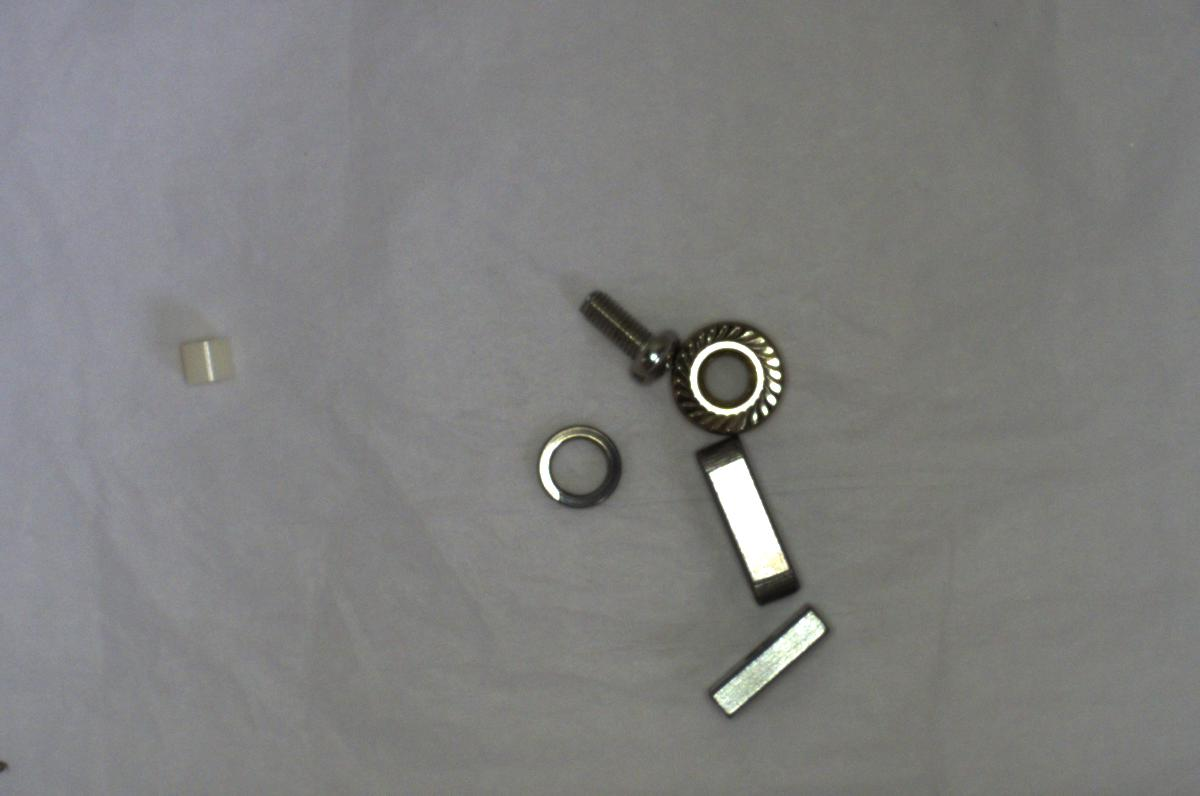Flange nut: (667, 305, 790, 443)
Keybar: (692, 434, 805, 613)
Plastic cushion pillar: (175, 330, 233, 389)
Rectangular nut: (702, 599, 833, 719)
Round head screw: (577, 280, 678, 382)
Spring washer: (526, 416, 627, 512)
